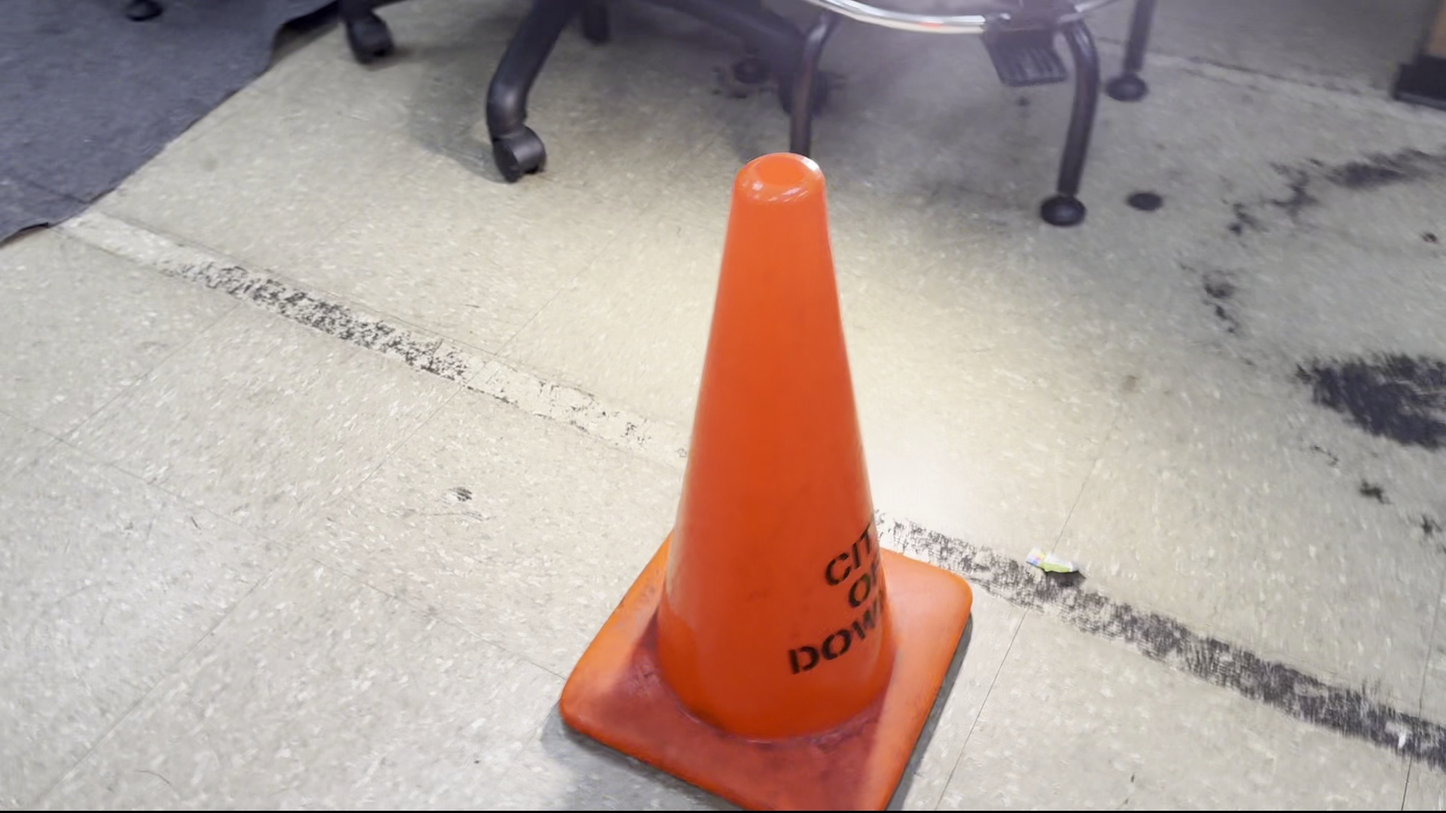traffic_cone: (558, 150, 973, 811)
